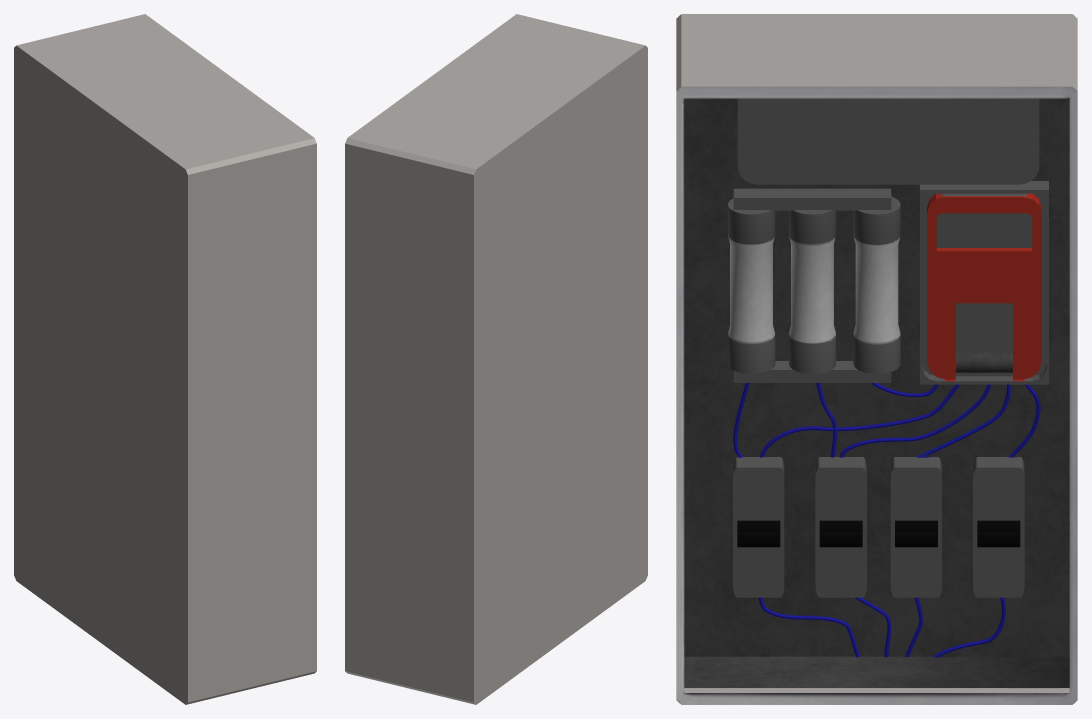
File: fuse_box.fbx
The picture shows the model from 3 angles, left to right: view 1: azimuth 30°, elevation 25°; view 2: azimuth 150°, elevation 25°; view 3: azimuth 270°, elevation 25°; orthographic projection. The views are drawn at different scales.
Parts seen in each view (by area): view 1: bake; view 2: bake; view 3: bake.
Boxes of the visible parts, x1,y1,x2,y2 form: bake: (14, 14, 316, 704); bake: (345, 14, 647, 704); bake: (676, 14, 1077, 704).
Size of the model in its own units: 48 by 190 by 112.
Materials: 1 (1 with a texture image).
